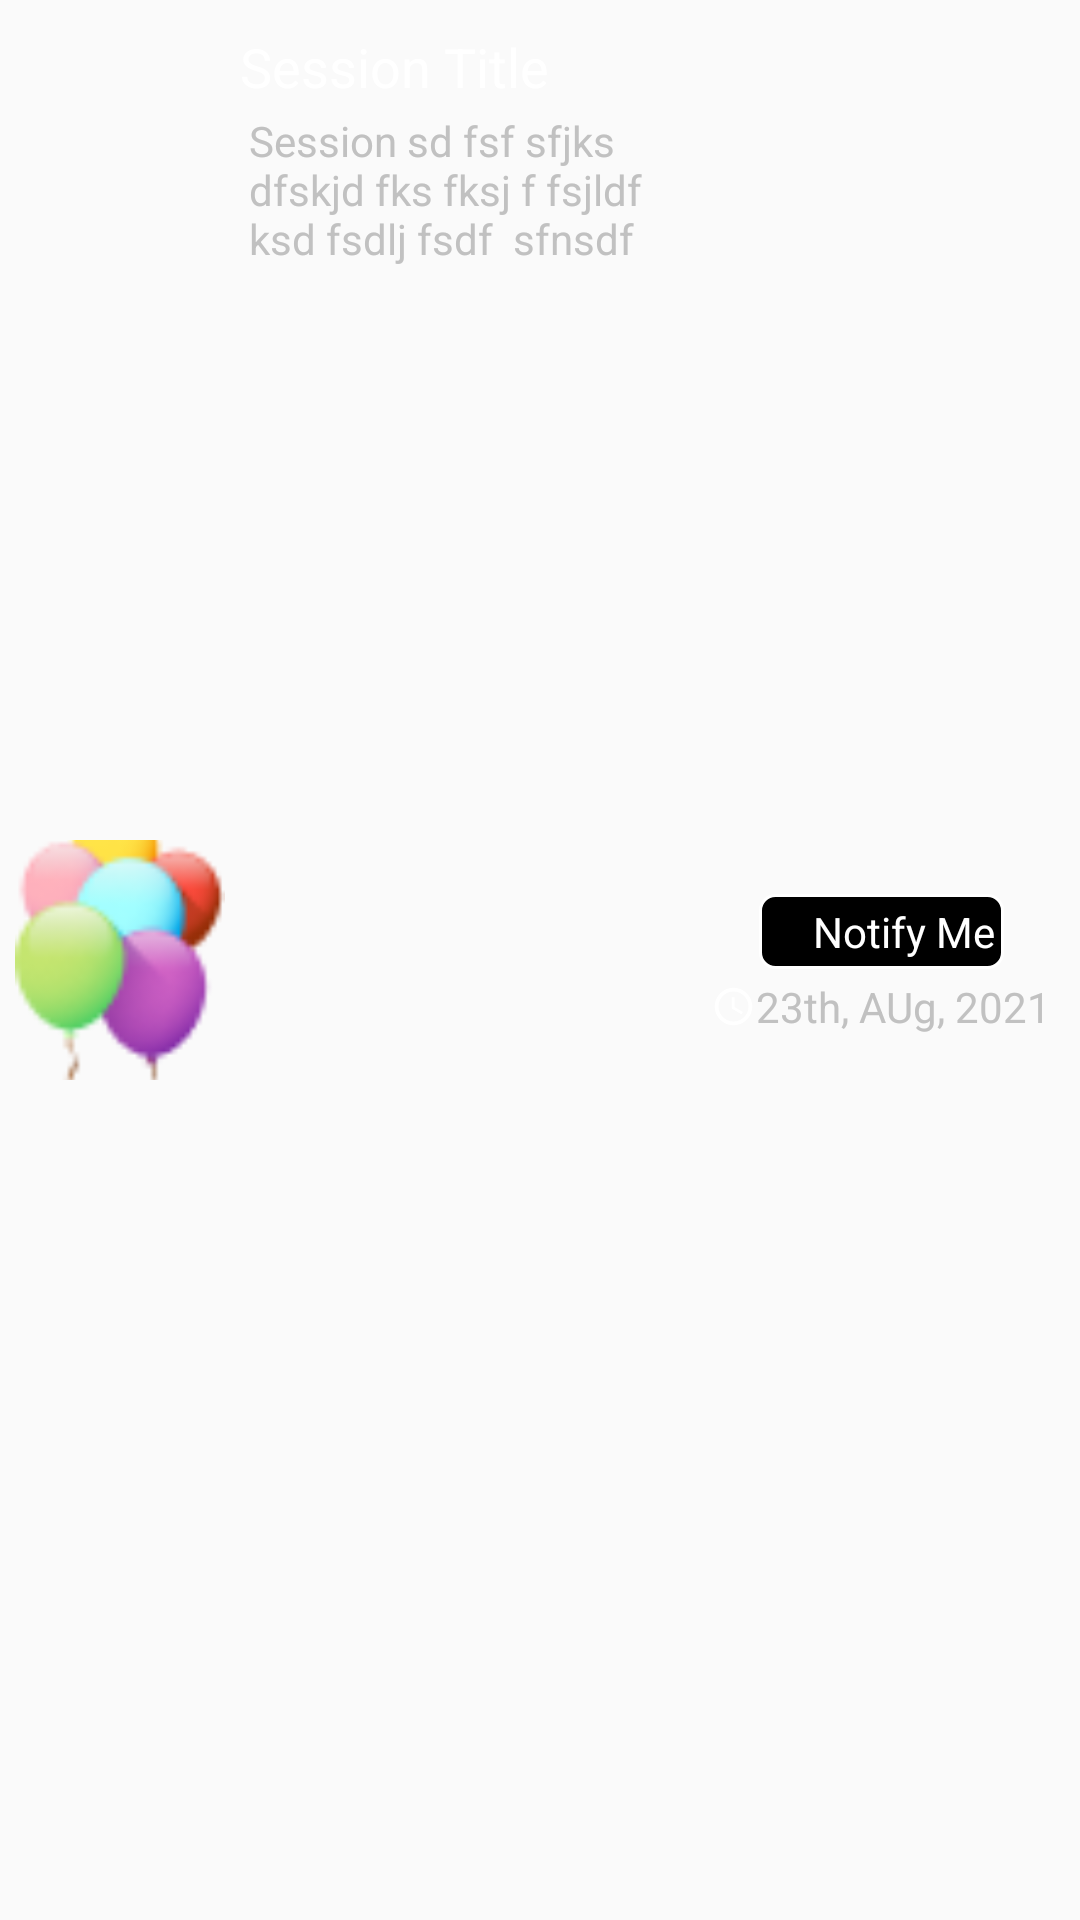

Icon click points for this 1080px x 1920px phone screenshot, format [x,y]:
balloons: [120,960]
